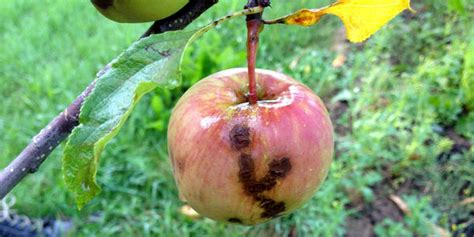apple: (165, 62, 337, 229)
